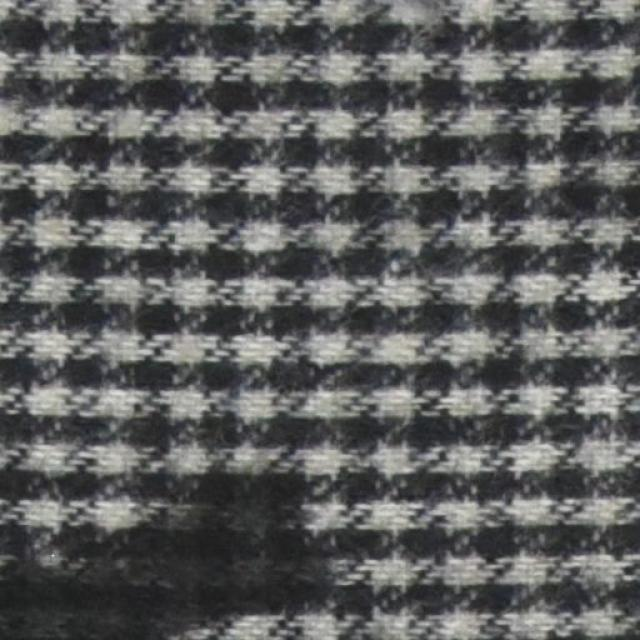Stain: (0, 475, 338, 640)
